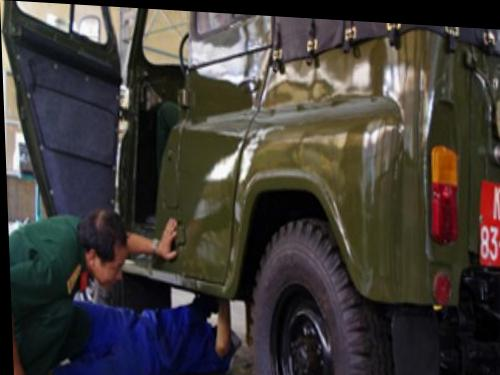License_Plate: (475, 177, 500, 266)
